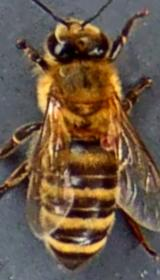varroa_mite: (89, 126, 124, 160)
